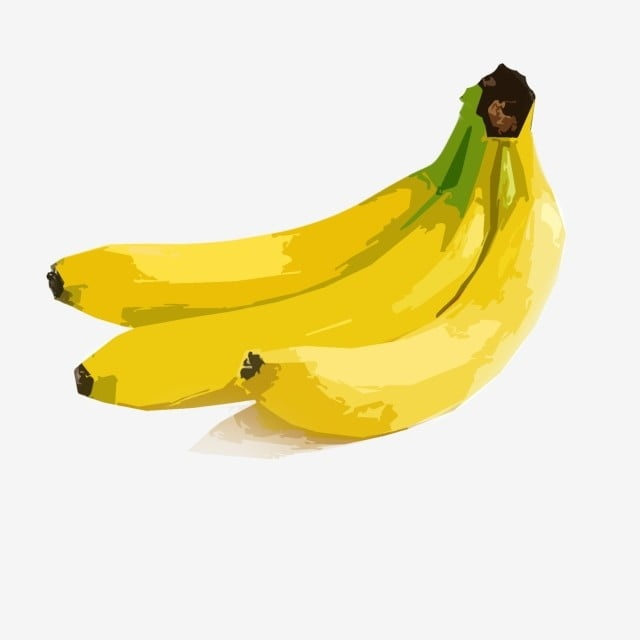chuoi: (74, 183, 491, 410), (245, 198, 565, 437), (49, 168, 436, 325)
